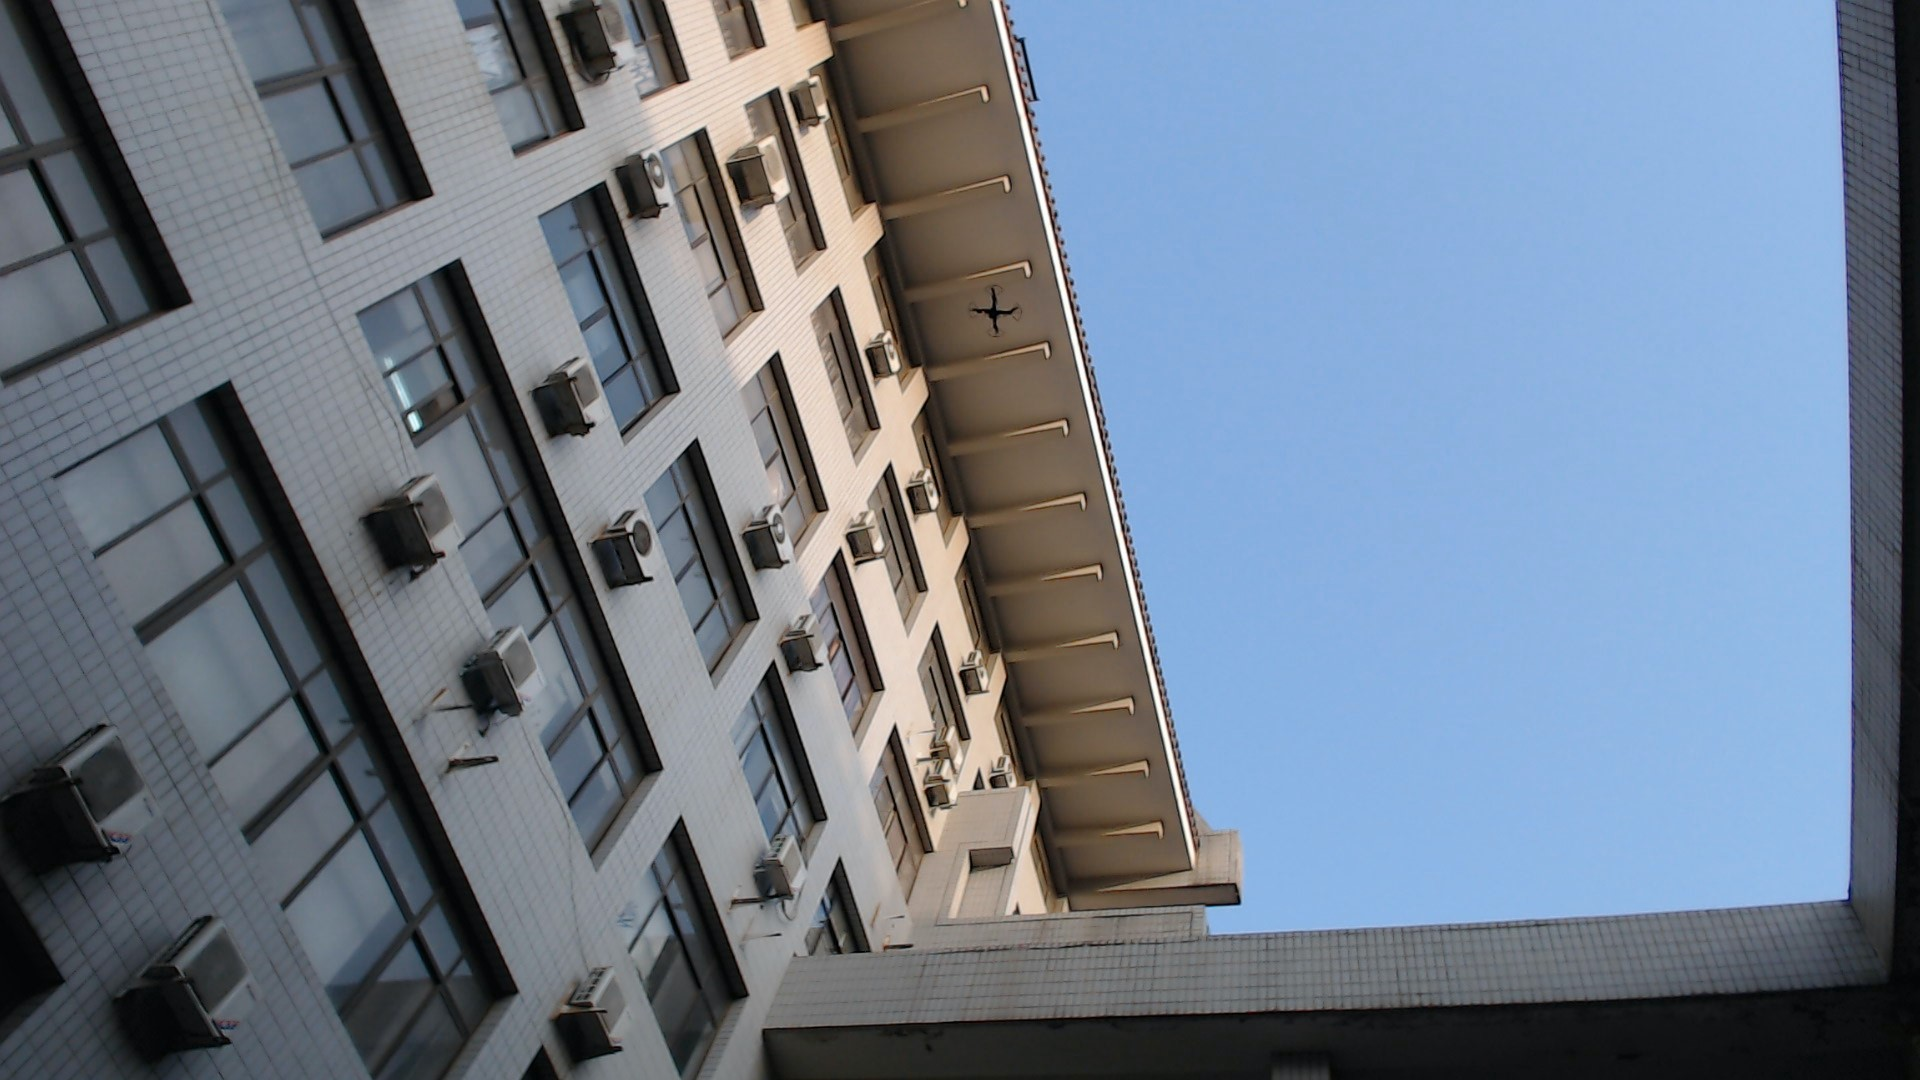drone: (951, 262, 1036, 351)
